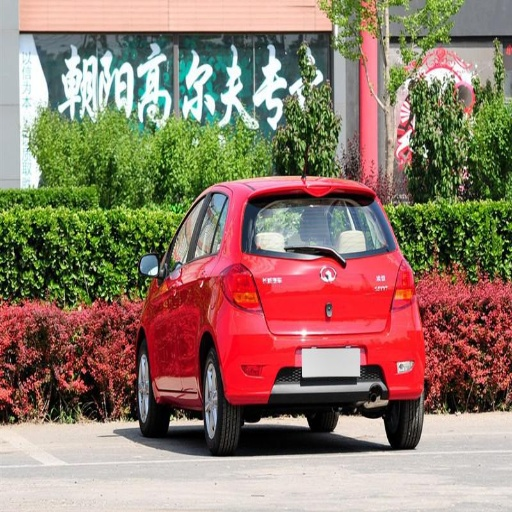back_bumper: (221, 304, 425, 399)
back_glass: (244, 195, 392, 257)
back_left_door: (176, 240, 207, 379)
back_left_light: (220, 273, 264, 313)
trunk: (246, 252, 399, 347)
